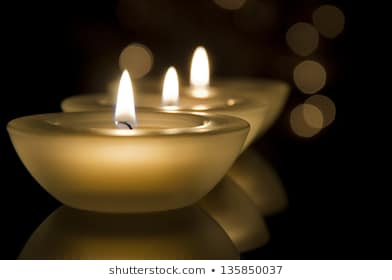Fire: (110, 65, 140, 134), (186, 39, 214, 97), (158, 62, 178, 110)
